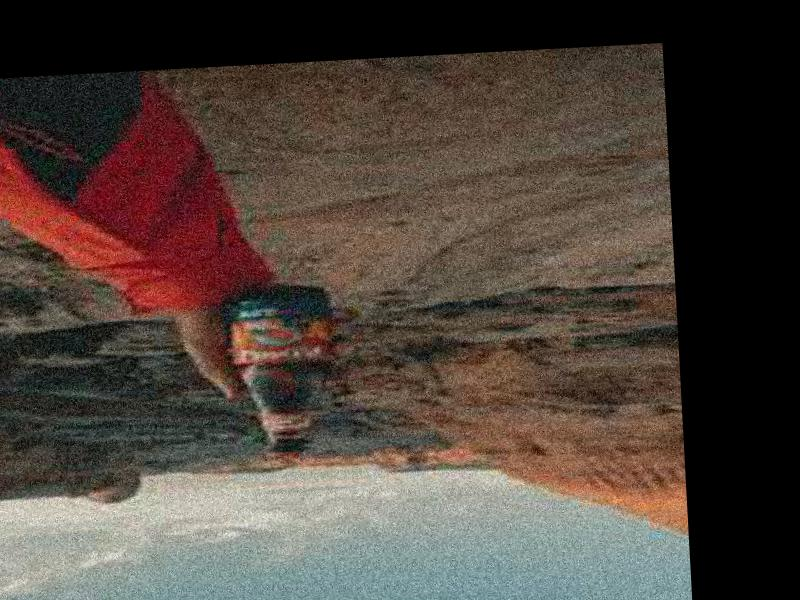Beer: (217, 285, 342, 456)
